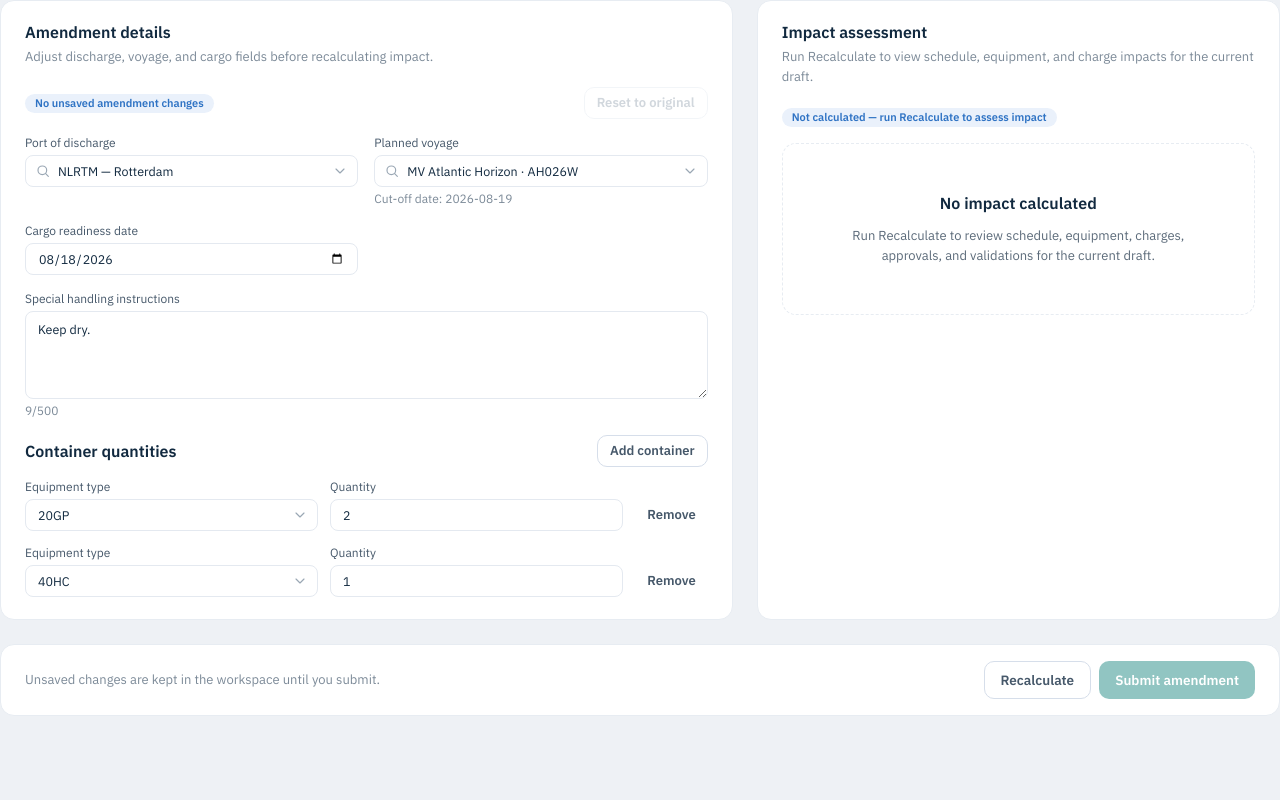
Test case: BookingAmendmentWorkspace › recalculates with the current draft and enables submit when valid
What coordinates should you click on to do the following:
click the button "Recalculate"
I would click on:
 (1037, 680)
Its box is [984,661,1091,699].
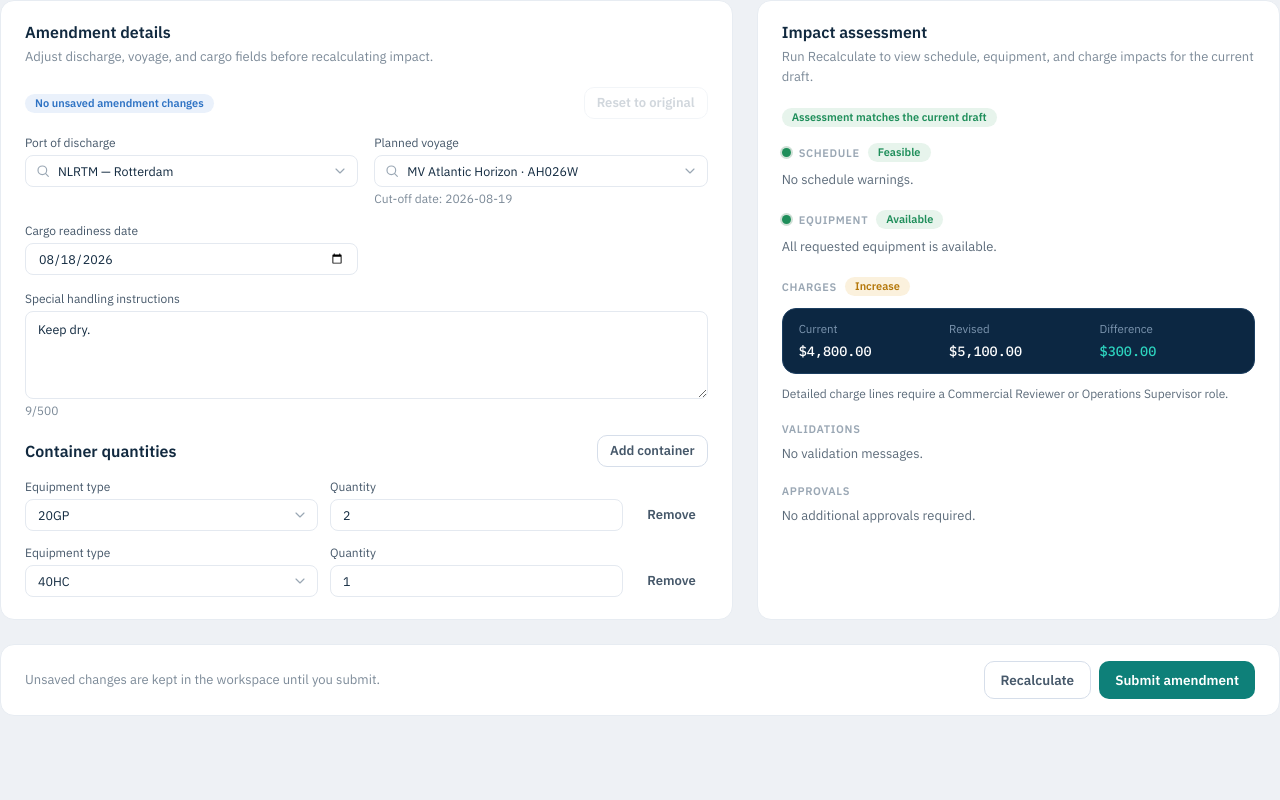
Expected: the text "Assessment matches the current draft" is shown, [782,108,997,127]
Expected: the text "Feasible" is shown, [868,143,930,162]
Expected: the text "Available" is shown, [876,210,944,229]
